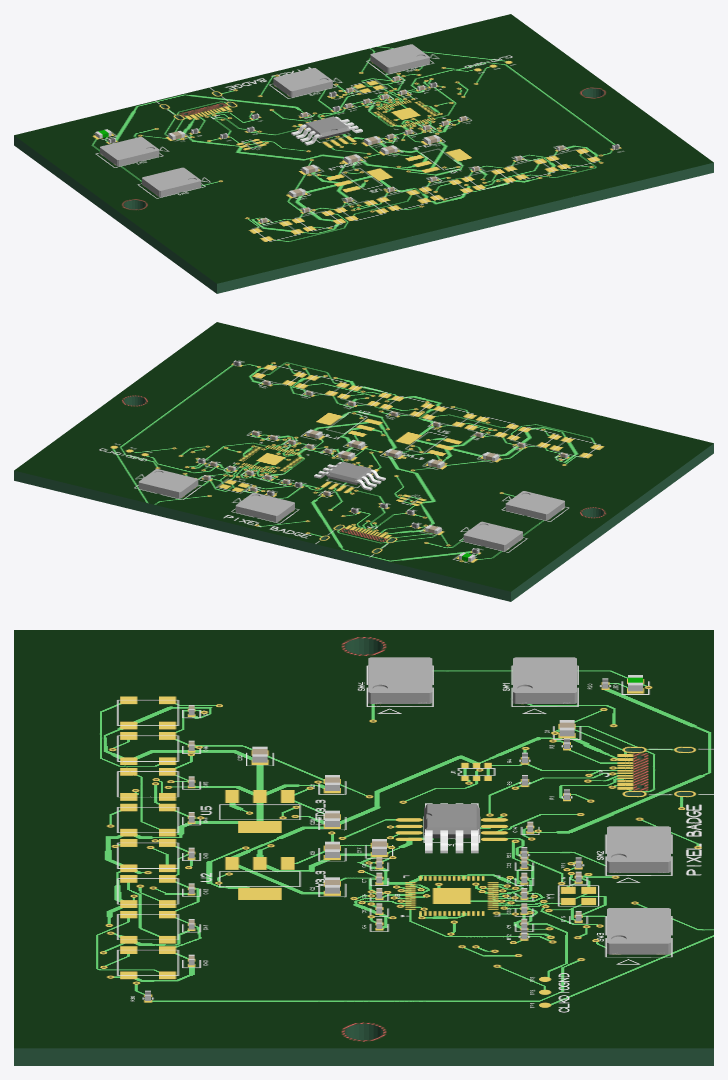
3 views of the same model, one above another, from view 1: azimuth 30°, elevation 25°; view 2: azimuth 150°, elevation 25°; view 3: azimuth 270°, elevation 25° (orthographic). The views are drawn at different scales.
Parts seen in each view (by area): view 1: Box0, SW2, SW3, SW1, SW4, U4; view 2: Box0, SW3, SW2, SW1, SW4, U4; view 3: Box0, SW4, SW2, SW3, SW1, U4.
Part boxes in pixels (x1,y1,x2,y2): Box0: (14,14,713,293); SW2: (273,68,332,97); SW3: (370,44,429,73); SW1: (100,137,159,166); SW4: (142,167,201,197); U4: (291,116,362,145); Box0: (14,322,713,601); SW3: (138,469,198,498); SW2: (235,492,294,522); SW1: (463,521,522,551); SW4: (505,491,564,520); U4: (314,461,385,490); Box0: (14,630,713,1065); SW4: (368,657,432,703); SW2: (607,826,670,872); SW3: (607,908,670,954); SW1: (513,657,576,703); U4: (424,803,479,853).
Size of the model in its own units: 82 by 2.88 by 58.
10 materials, 2 textured.
